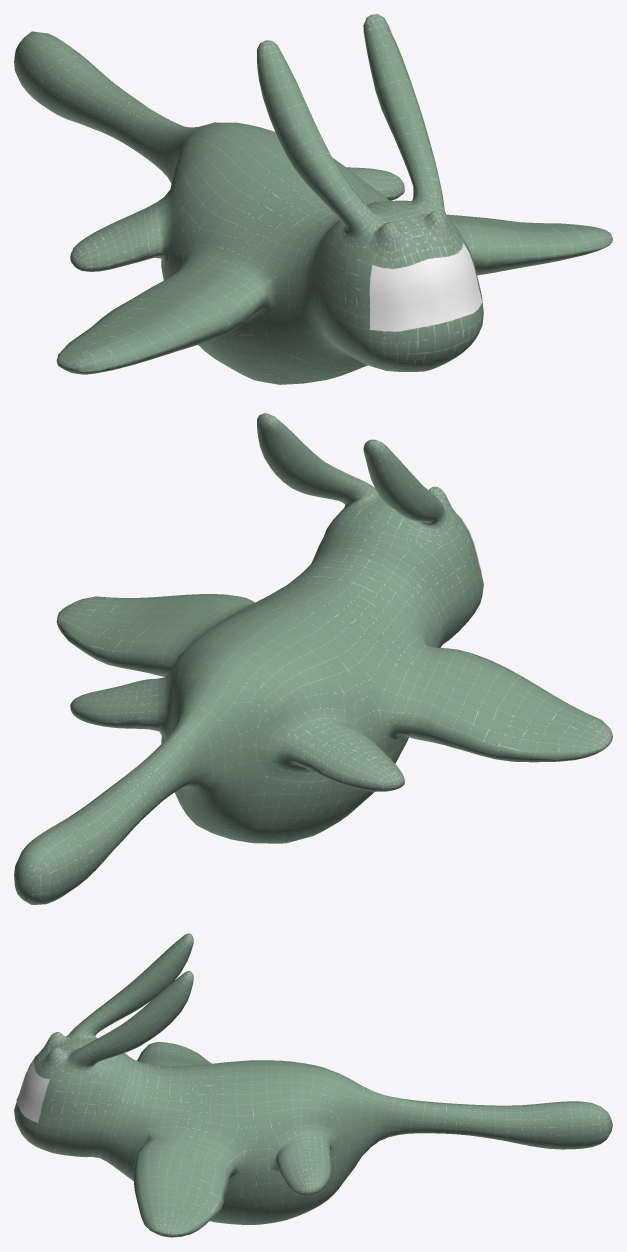
The model's file is BigNudi_Noweight.fbx.
3 renders of one model, top to bottom at view 1: azimuth 30°, elevation 25°; view 2: azimuth 150°, elevation 25°; view 3: azimuth 270°, elevation 25°, orthographic. The views are drawn at different scales.
Visible parts, largest first — view 1: polySurface1, polySurface2; view 2: polySurface1; view 3: polySurface1, polySurface2.
Part boxes in pixels (box(x1,y1,x2,y2)): polySurface1: box(14, 14, 612, 384); polySurface2: box(369, 243, 482, 331); polySurface1: box(14, 413, 612, 904); polySurface1: box(14, 933, 612, 1237); polySurface2: box(16, 1055, 49, 1122).
Bounding box in the file's own units: 774 × 501 × 1029.
Materials: 2 (2 with a texture image).
